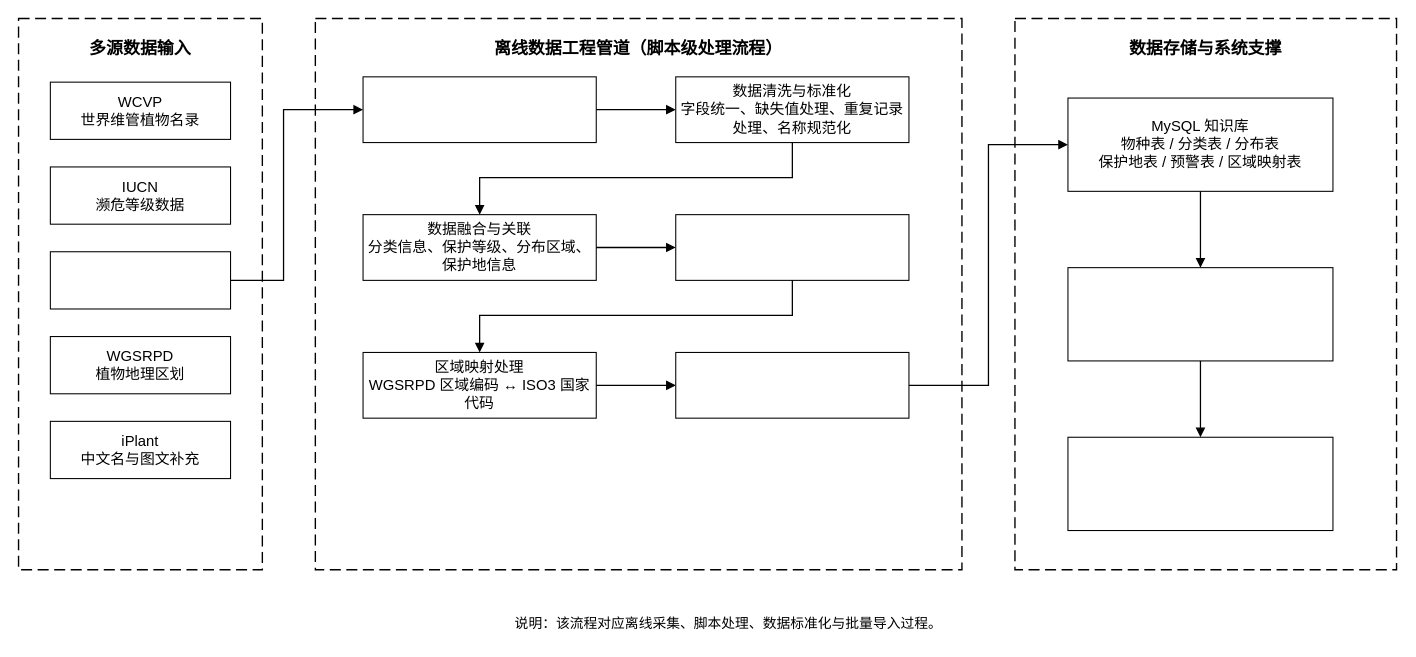
This 1416x657 diagram has some shape labels left out. The shapes that lost their labels are listed below. From the top down, each one's centre as x and y in pixels, then its label:
At (479,109): "原始数据暂存 CSV / Excel / JSON / 图片链接 / 边界数据".
At (792,247): "补全与修复 中文名、图片、描述信息、异常数据修复".
At (140,280): "WDPA 保护地数据".
At (1200,314): "后端服务读取 植物服务 / 分类服务 / 分析服务 搜索服务 / 预警服务 / 区域服务".
At (792,384): "批量导入脚本 Sequelize / MySQL 导入与校验".
At (1200,483): "支撑前台功能 植物知识库 / 分类树 / 可视化分析 区域摘要 / 濒危预警".
